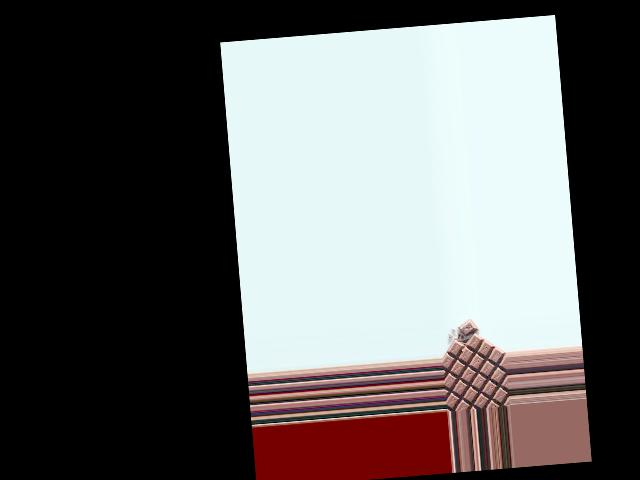chocolate: (441, 325, 507, 412)
